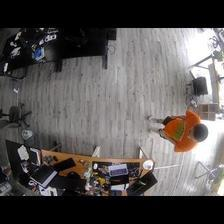normal: (147, 110, 209, 152)
